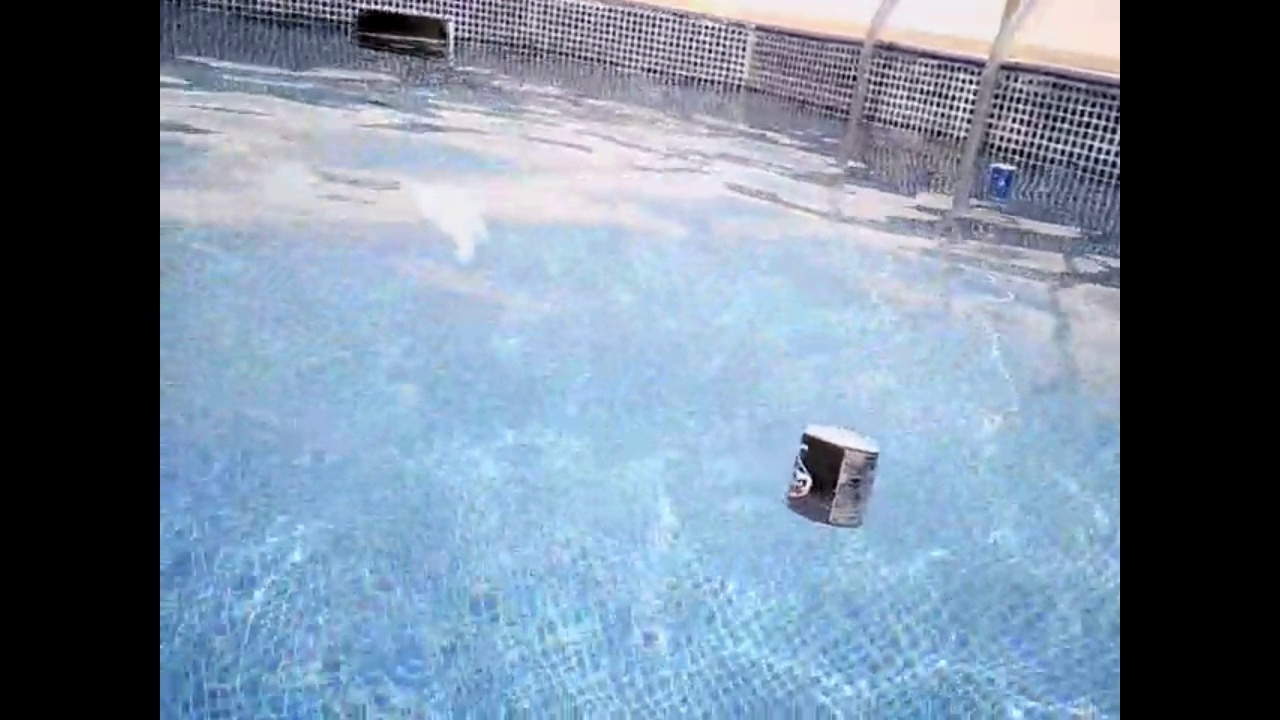debris: (775, 408, 882, 539), (984, 159, 1018, 207)
